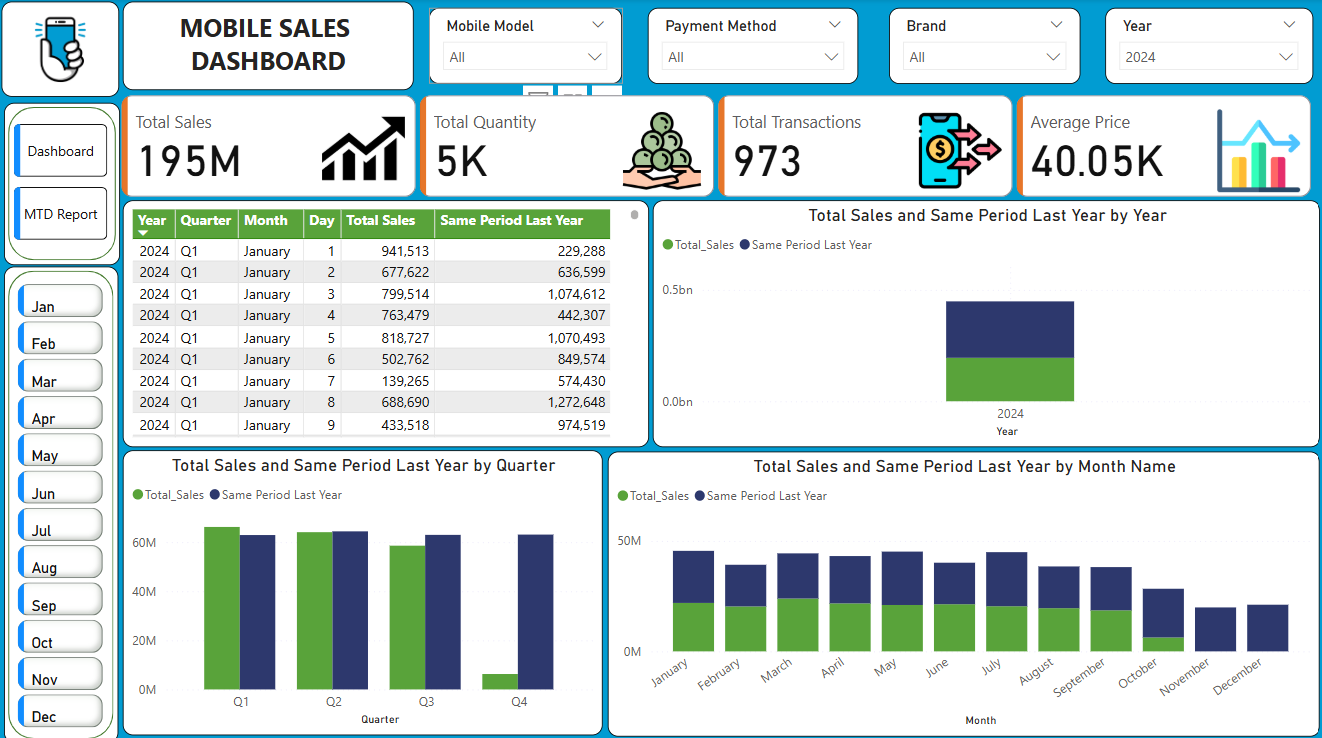

The dashboard page shown, as its layout file describes it:
{"tool":"powerbi","page":{"name":"Same Period Last Year","canvas":[1280,720],"ordinal":2},"visuals":[{"type":"image","box":[2.4,2.4,113.4,91.7],"z":0},{"type":"shape","box":[4.3,99.6,112.4,156.4],"z":1000},{"type":"textbox","box":[119.4,2.4,281.1,85.7],"z":2000},{"type":"shape","box":[4.6,258.4,110.1,460.3],"z":3000},{"type":"tableEx","fields":{"Values":["DateTable.Date Hierarchy.Year","DateTable.Date Hierarchy.Quarter","DateTable.Date Hierarchy.Month Name","DateTable.Date Hierarchy.Day Number","Measure_Table.Total_Sales","Measure_Table.Same Period Last Year"]},"box":[119.7,194.8,507.9,238.1],"z":4000},{"type":"columnChart","title":"Total Sales and Same Period Last Year by Year","fields":{"Category":["DateTable.Date Hierarchy.Year","DateTable.Date Hierarchy.Quarter","DateTable.Date Hierarchy.Month Name","DateTable.Date Hierarchy.Day Number"],"Y":["Measure_Table.Total_Sales","Measure_Table.Same Period Last Year"]},"box":[630.5,194.8,644.9,238.1],"z":5000},{"type":"clusteredColumnChart","title":"Total Sales and Same Period Last Year by Quarter","fields":{"Category":["DateTable.Date Hierarchy.Year","DateTable.Date Hierarchy.Quarter","DateTable.Date Hierarchy.Month Name","DateTable.Date Hierarchy.Day Number"],"Y":["Measure_Table.Total_Sales","Measure_Table.Same Period Last Year"]},"box":[119.4,435.5,463.3,275.1],"z":6000},{"type":"columnChart","title":"Total Sales and Same Period Last Year by Month Name","fields":{"Category":["DateTable.Date Hierarchy.Year","DateTable.Date Hierarchy.Quarter","DateTable.Date Hierarchy.Month Name","DateTable.Date Hierarchy.Day Number"],"Y":["Measure_Table.Total_Sales","Measure_Table.Same Period Last Year"]},"box":[587.5,436.7,687.7,275.1],"z":7000},{"type":"slicer","fields":{"Values":["Sales.Mobile Model"]},"box":[415.5,8.3,186.1,73.6],"z":8000},{"type":"slicer","fields":{"Values":["Sales.Payment Method"]},"box":[626.2,8.3,203.4,73.6],"z":9000},{"type":"slicer","fields":{"Values":["Sales.Brand"]},"box":[858.4,8.3,184.7,73.6],"z":10000},{"type":"slicer","fields":{"Values":["DateTable.Year"]},"box":[1067.6,8.3,200.5,73.6],"z":11000},{"type":"pageNavigator","box":[14.4,121.2,90.9,112.5],"z":12000},{"type":"advancedSlicerVisual","fields":{"Values":["DateTable.Month Short Name"]},"box":[13,269.8,92.3,444.4],"z":13000},{"type":"cardVisual","fields":{"Data":["Measure_Table.Total_Sales","Measure_Table.Total_Quantity","Measure_Table.Total_Transactions","Measure_Table.Average_Price"]},"box":[113.4,88.1,1161.8,108.6],"z":14000}]}

Visuals, with their boxes in screenshot pixels (x1, y1, x2, y2), scaled from the page's 1280x720 canvas onto the 1322x738 screenshot:
image: bbox(2, 2, 120, 96)
shape: bbox(4, 102, 121, 262)
textbox: bbox(123, 2, 414, 90)
shape: bbox(5, 265, 118, 737)
tableEx - DateTable.Date Hierarchy.Year x DateTable.Date Hierarchy.Quarter: bbox(124, 200, 648, 444)
"Total Sales and Same Period Last Year by Year" columnChart: bbox(651, 200, 1317, 444)
"Total Sales and Same Period Last Year by Quarter" clusteredColumnChart: bbox(123, 446, 602, 728)
"Total Sales and Same Period Last Year by Month Name" columnChart: bbox(607, 448, 1317, 730)
slicer - Sales.Mobile Model: bbox(429, 9, 621, 84)
slicer - Sales.Payment Method: bbox(647, 9, 857, 84)
slicer - Sales.Brand: bbox(887, 9, 1077, 84)
slicer - DateTable.Year: bbox(1103, 9, 1310, 84)
pageNavigator: bbox(15, 124, 109, 240)
advancedSlicerVisual - DateTable.Month Short Name: bbox(13, 277, 109, 732)
cardVisual - Measure_Table.Total_Sales x Measure_Table.Total_Quantity: bbox(117, 90, 1317, 202)
